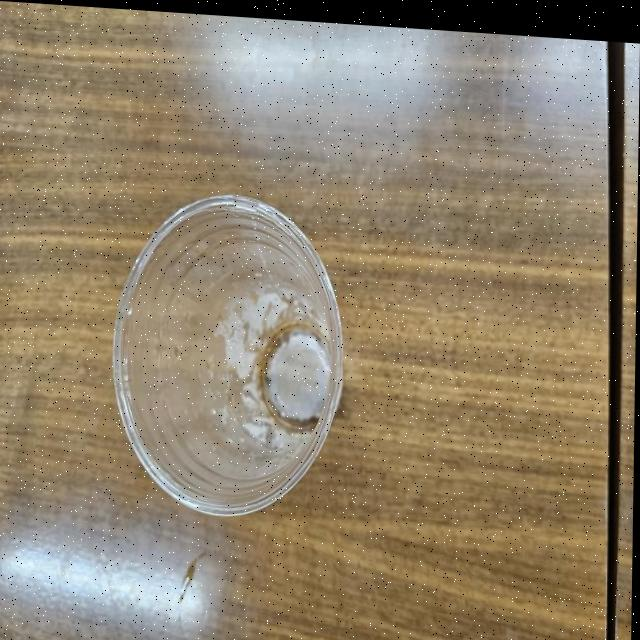cup: (107, 180, 354, 526)
